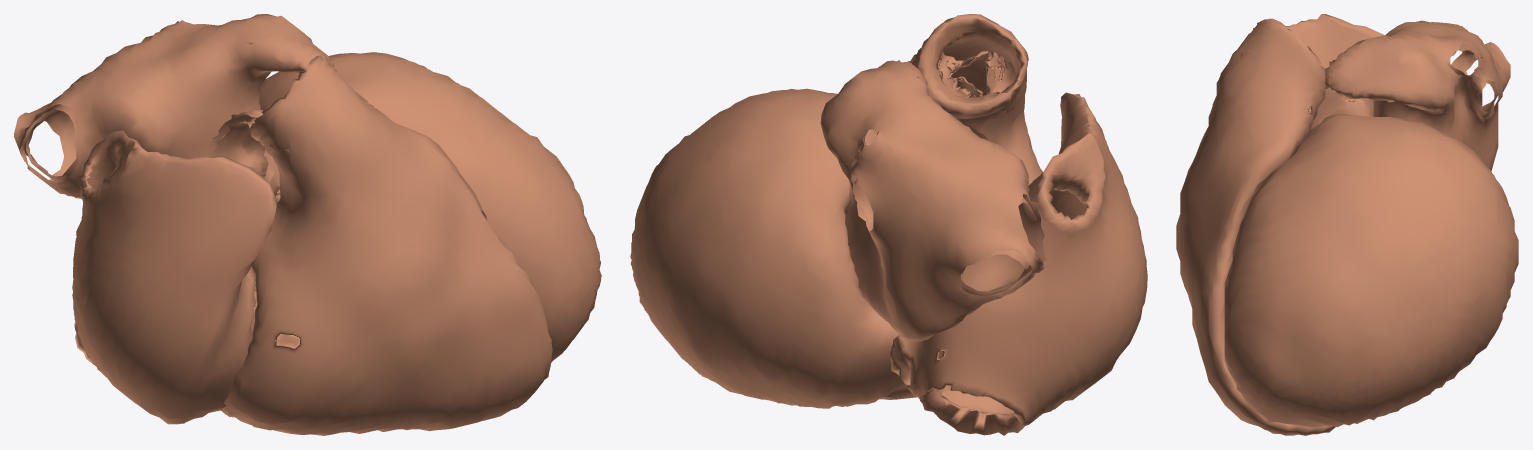
Rendered from jantung-ruang.glb.
The picture shows the model from 3 angles, left to right: view 1: azimuth 30°, elevation 25°; view 2: azimuth 150°, elevation 25°; view 3: azimuth 270°, elevation 25°; orthographic projection. The views are drawn at different scales.
Parts seen in each view (by area): view 1: Right ventricle, Right cardiac atrium, Left ventricle, Left cardiac atrium, Aortic valve; view 2: Left ventricle, Left cardiac atrium, Right cardiac atrium, Right ventricle, Pulmonary valve; view 3: Left ventricle, Right ventricle, Left cardiac atrium, Right cardiac atrium, Aortic valve.
Boxes of the visible parts, x1,y1,x2,y2 form: Right ventricle: (221,55,552,435); Right cardiac atrium: (72,130,276,424); Left ventricle: (259,52,601,362); Left cardiac atrium: (14,14,336,198); Aortic valve: (202,109,280,203); Left ventricle: (630,88,905,408); Left cardiac atrium: (820,60,1045,341); Right cardiac atrium: (889,92,1147,435); Right ventricle: (879,14,1043,399); Pulmonary valve: (938,50,1024,113); Left ventricle: (1224,114,1518,427); Right ventricle: (1176,18,1335,435); Left cardiac atrium: (1325,20,1510,170); Right cardiac atrium: (1216,14,1384,101); Aortic valve: (1310,87,1373,129).
Size of the model in its own units: 2 by 1.55 by 1.43.
